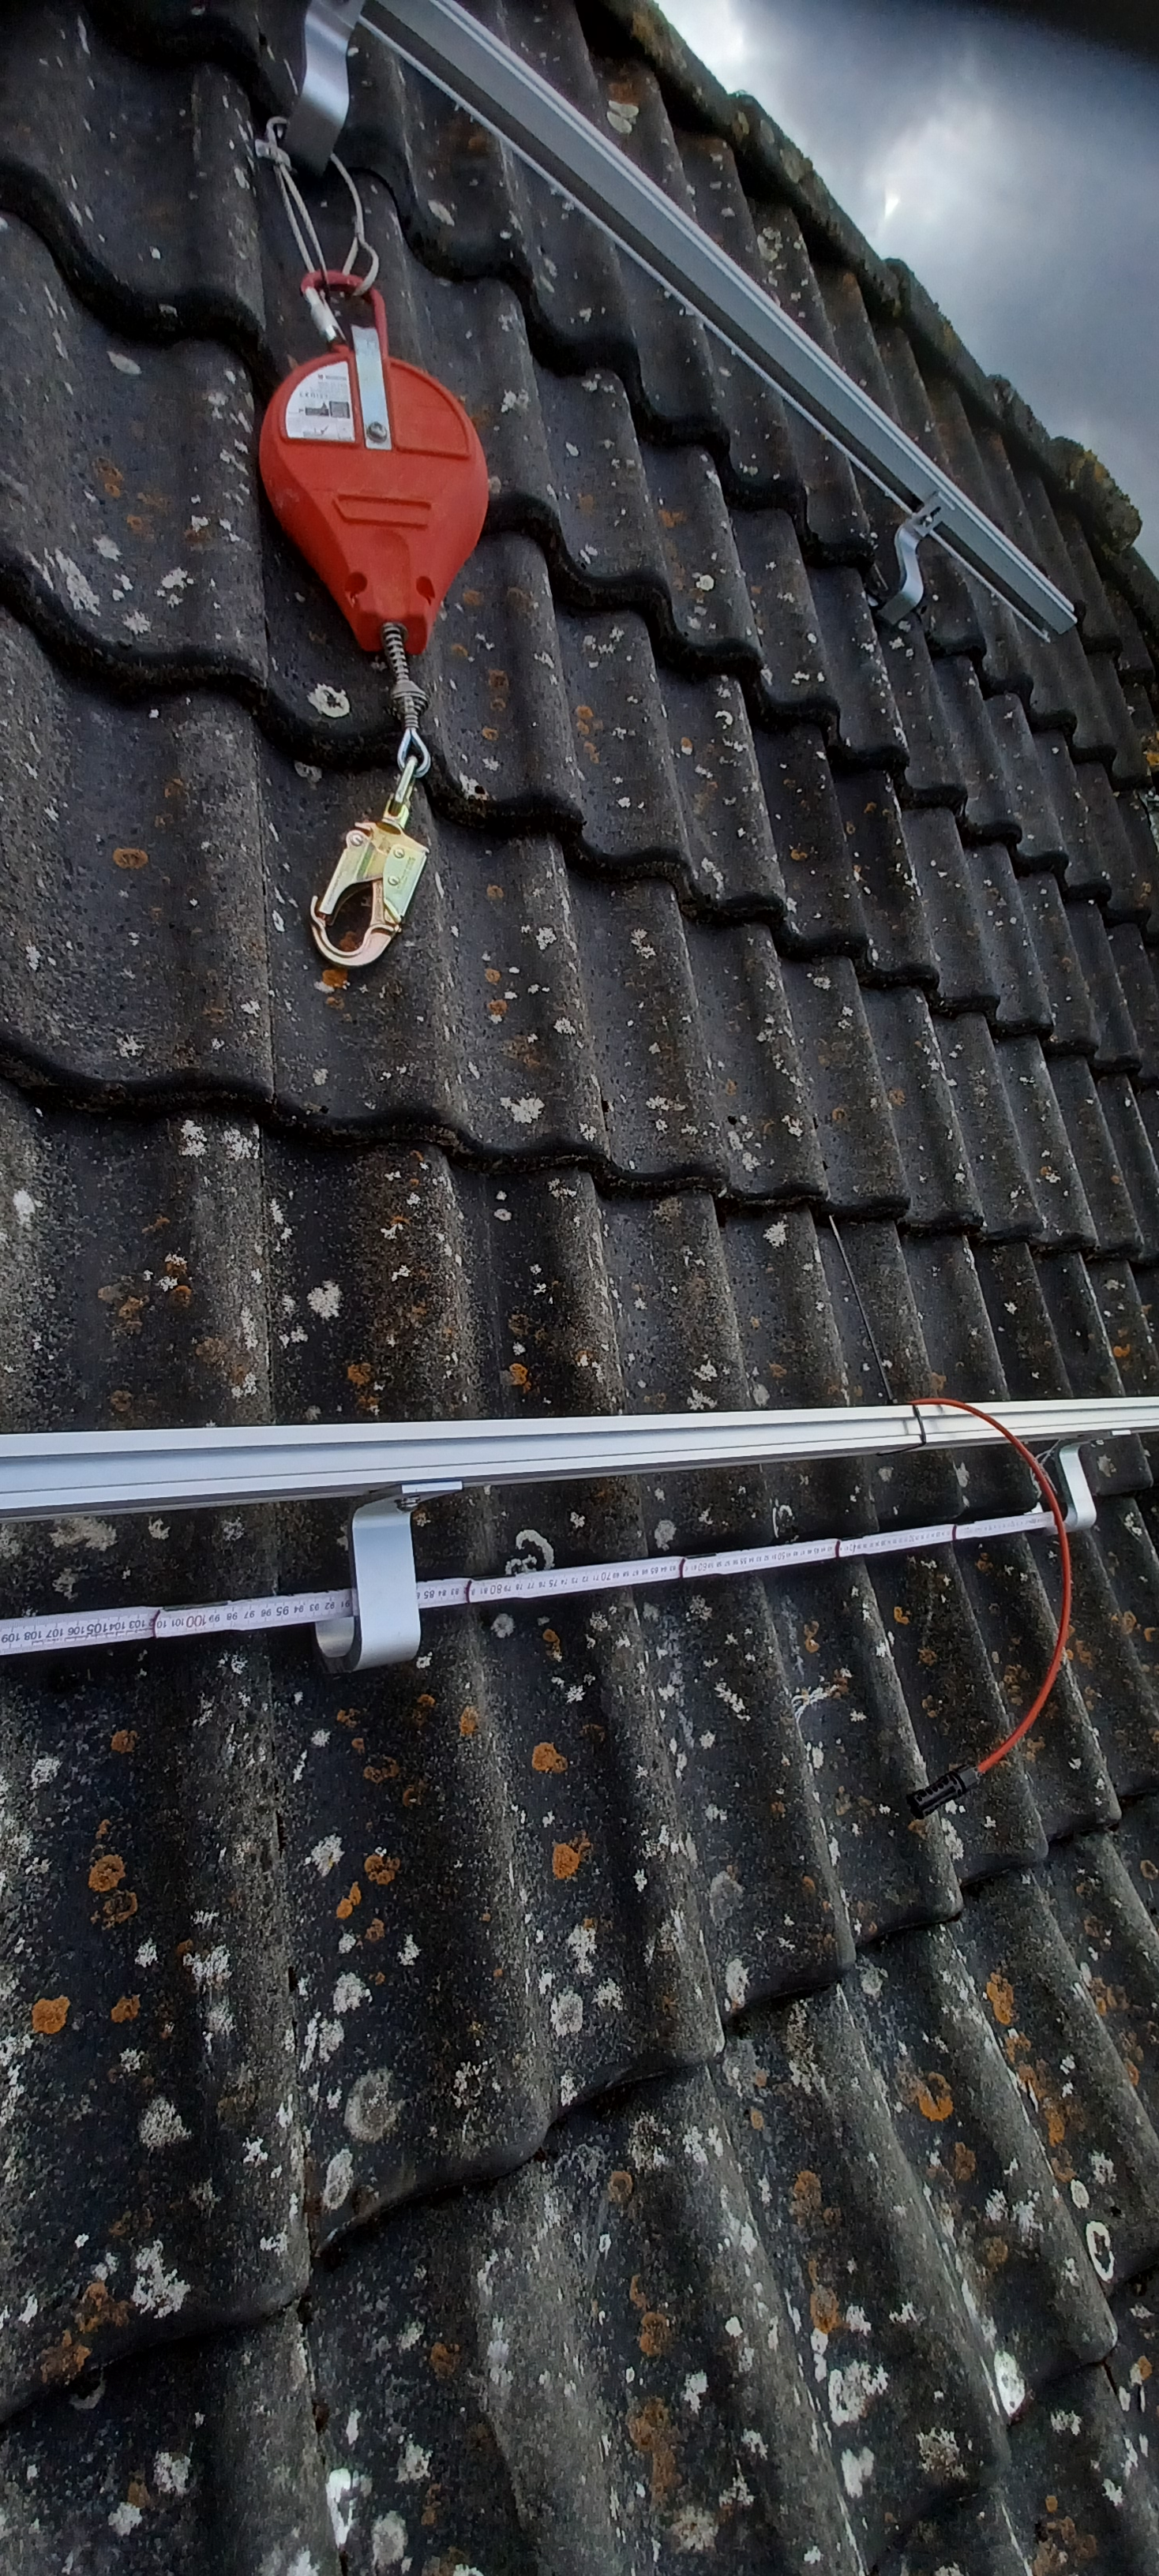hook: (311, 1482, 464, 1672), (281, 0, 363, 174), (1021, 1429, 1131, 1536), (870, 490, 955, 626)
